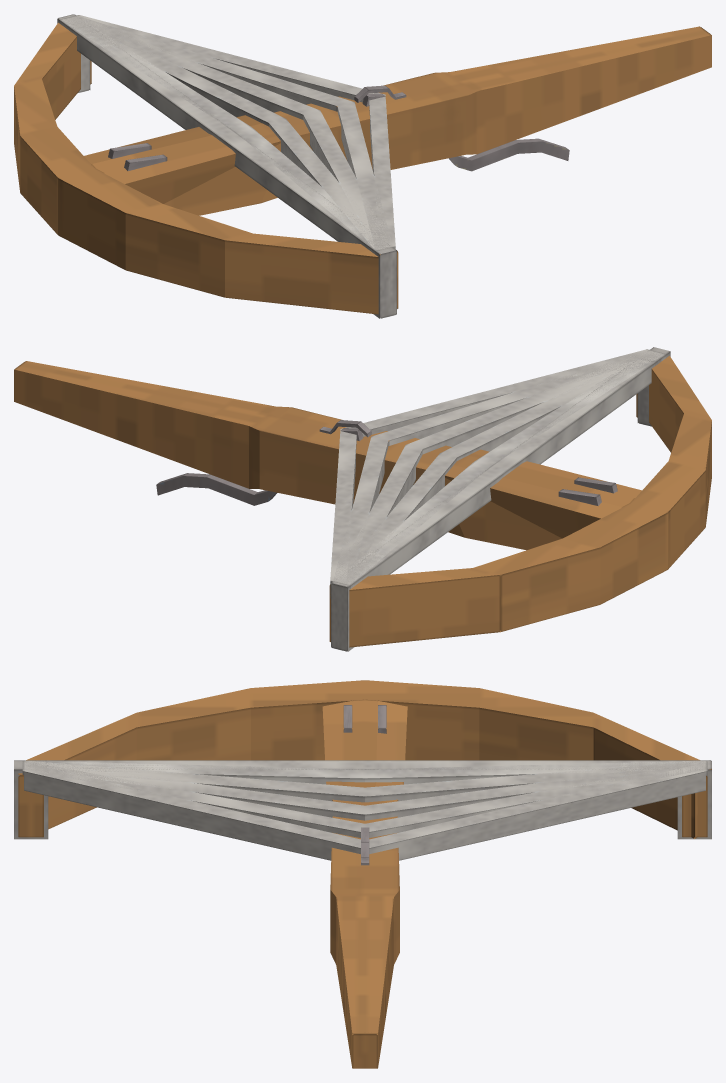
Rendered from Crossbow.fbx.
The picture shows the model from 3 angles, top to bottom: view 1: azimuth 30°, elevation 25°; view 2: azimuth 150°, elevation 25°; view 3: azimuth 270°, elevation 25°; orthographic projection. The views are drawn at different scales.
Visible parts, largest first — view 1: MainBody, PulledOne, PulledFive, PulledFour, PulledThree, PulledSix, PulledTwo, RopeEnd; view 2: MainBody, PulledOne, PulledFive, PulledFour, PulledSix, PulledThree, PulledTwo, WoodEnd2, RopeEnd; view 3: MainBody, PulledSix, PulledFive, PulledThree, PulledFour, PulledTwo, PulledOne, WoodEnd, RopeEnd2, RopeEnd, WoodEnd2.
Part boxes in pixels (bbox=[...]): MainBody: bbox=[14, 22, 711, 314]; PulledOne: bbox=[59, 18, 383, 254]; PulledFive: bbox=[61, 15, 392, 250]; PulledFour: bbox=[61, 16, 385, 250]; PulledThree: bbox=[61, 17, 383, 249]; PulledSix: bbox=[65, 15, 395, 249]; PulledTwo: bbox=[61, 16, 379, 250]; RopeEnd: bbox=[364, 242, 396, 318]; MainBody: bbox=[14, 356, 711, 647]; PulledOne: bbox=[347, 354, 666, 589]; PulledFive: bbox=[333, 350, 665, 587]; PulledFour: bbox=[335, 354, 663, 584]; PulledSix: bbox=[330, 349, 662, 598]; PulledThree: bbox=[337, 354, 663, 585]; PulledTwo: bbox=[338, 354, 664, 584]; WoodEnd2: bbox=[331, 575, 363, 651]; RopeEnd: bbox=[637, 347, 670, 426]; MainBody: bbox=[26, 680, 711, 1068]; PulledSix: bbox=[22, 762, 707, 860]; PulledFive: bbox=[22, 761, 707, 837]; PulledThree: bbox=[28, 760, 705, 802]; PulledFour: bbox=[24, 761, 706, 820]; PulledTwo: bbox=[23, 760, 705, 784]; PulledOne: bbox=[25, 760, 705, 769]; WoodEnd: bbox=[18, 773, 43, 837]; RopeEnd2: bbox=[682, 775, 707, 837]; RopeEnd: bbox=[14, 760, 48, 839]; WoodEnd2: bbox=[677, 760, 711, 839].
Size of the model in its own units: 118 by 20.92 by 102.
1 material, 1 textured.
